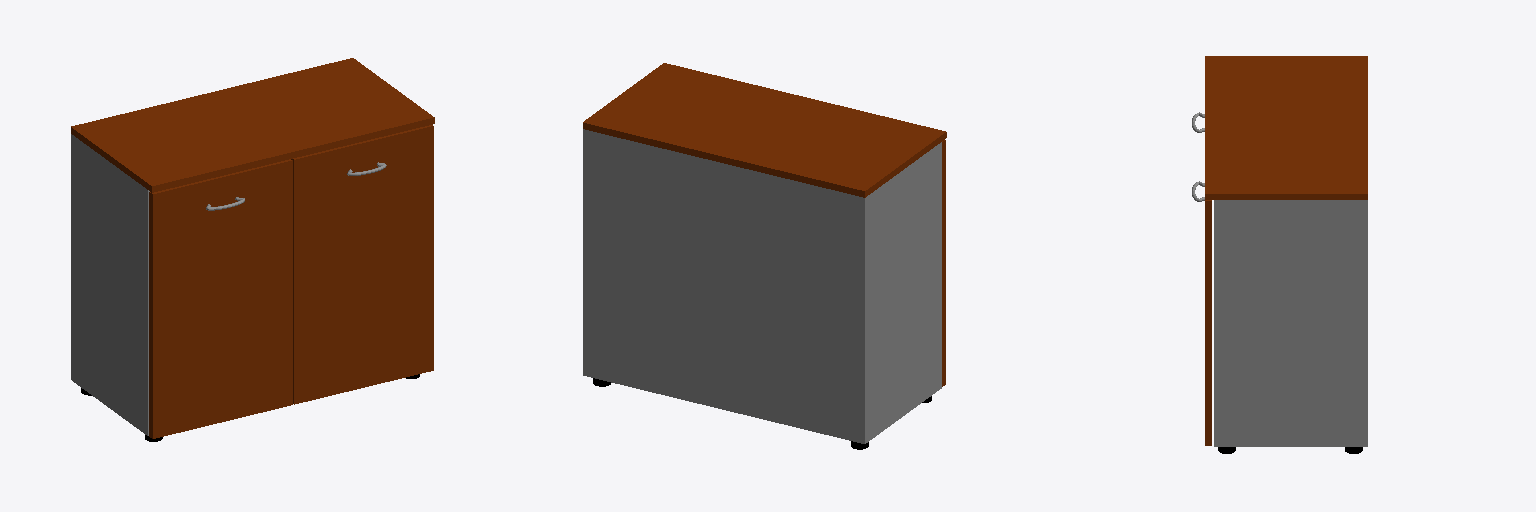
The model's file is mobile_acquario.obj.
The picture shows the model from 3 angles: view 1: azimuth 30°, elevation 25°; view 2: azimuth 150°, elevation 25°; view 3: azimuth 270°, elevation 25°; orthographic projection.
Visible parts, largest first — view 1: Box48_2, Box49_6, Box50_7, Box51_10; view 2: Box51_10, Box50_7, Box48_2; view 3: Box51_10, Box50_7, Box49_6.
Boxes of the visible parts, x1=… form: Box48_2: x1=149, y1=159, x2=292, y2=438; Box49_6: x1=291, y1=125, x2=433, y2=404; Box50_7: x1=71, y1=58, x2=434, y2=192; Box51_10: x1=71, y1=134, x2=149, y2=435; Box51_10: x1=583, y1=129, x2=941, y2=443; Box50_7: x1=583, y1=63, x2=946, y2=197; Box48_2: x1=942, y1=140, x2=945, y2=386; Box51_10: x1=1214, y1=200, x2=1367, y2=446; Box50_7: x1=1205, y1=56, x2=1367, y2=199; Box49_6: x1=1205, y1=200, x2=1211, y2=445.
Bounding box in the file's own units: 90 × 80 × 48.75.